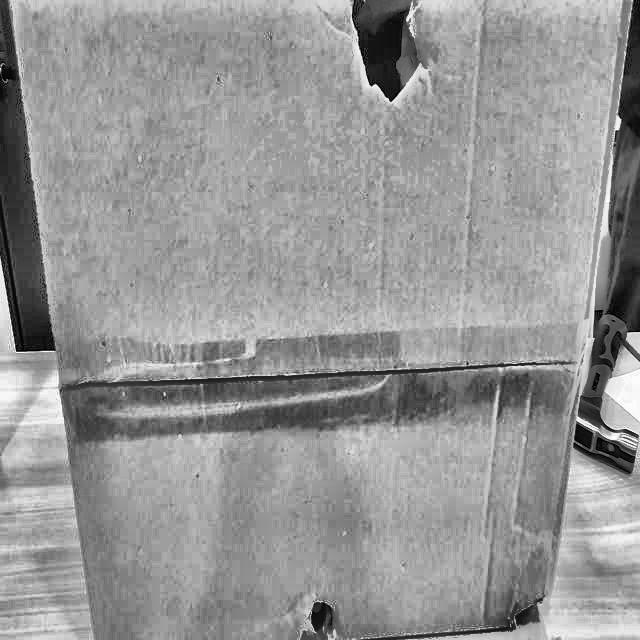box: (2, 0, 635, 639)
hole: (343, 0, 428, 103), (301, 595, 337, 640)
